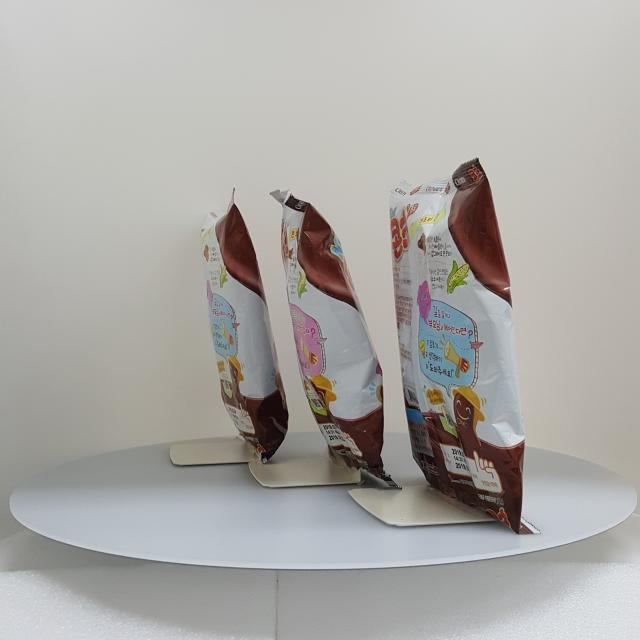-66G: (390, 158, 542, 535), (270, 189, 403, 490), (201, 188, 290, 465)
